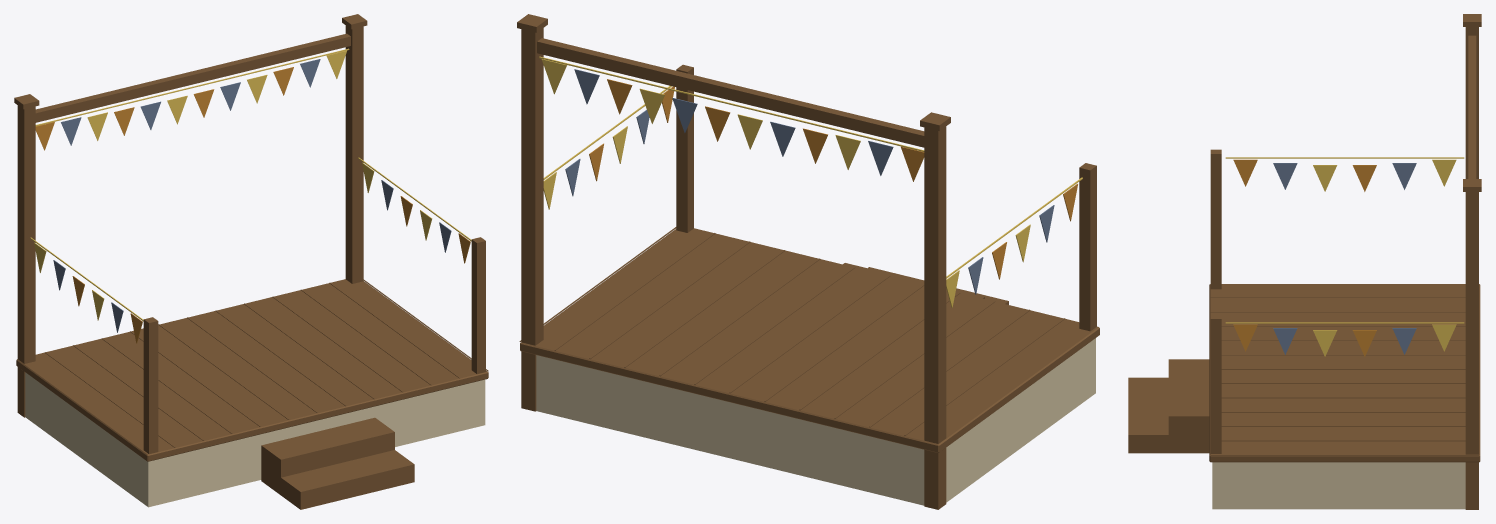
The model's file is Prop_YTM_GreenStage.glb.
3 views of the same model, side by side, from view 1: azimuth 30°, elevation 25°; view 2: azimuth 150°, elevation 25°; view 3: azimuth 270°, elevation 25° (orthographic). The views are drawn at different scales.
Visible parts, largest first — view 1: Prop_YTM_GreenStage, Prop_YTM_GreenStage_Bunting; view 2: Prop_YTM_GreenStage, Prop_YTM_GreenStage_Bunting; view 3: Prop_YTM_GreenStage, Prop_YTM_GreenStage_Bunting.
Part boxes in pixels (x1,y1,x2,y2): Prop_YTM_GreenStage: (14,14,488,509); Prop_YTM_GreenStage_Bunting: (30,48,471,343); Prop_YTM_GreenStage: (517,14,1099,509); Prop_YTM_GreenStage_Bunting: (539,56,1082,307); Prop_YTM_GreenStage: (1128,14,1481,509); Prop_YTM_GreenStage_Bunting: (1225,157,1464,356).
Size of what is drawn, in the model's own units: 3.02 by 2.64 by 2.61.
